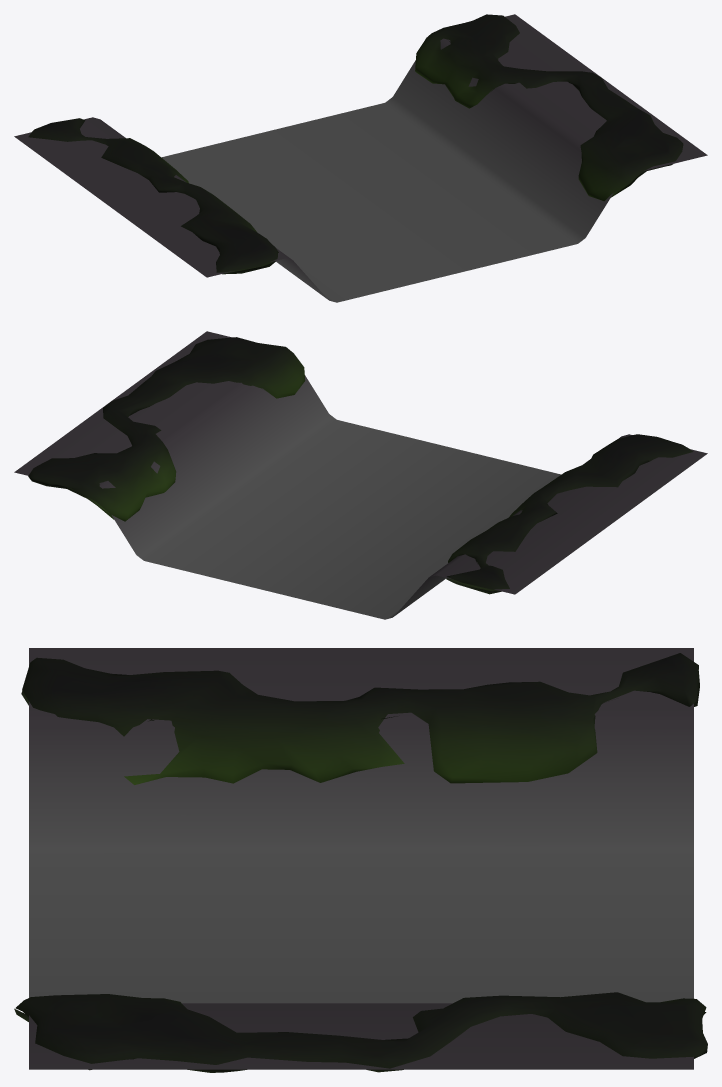
The model's file is SM_Sewer_Ground_07.fbx.
3 views of the same model, one above another, from view 1: azimuth 30°, elevation 25°; view 2: azimuth 150°, elevation 25°; view 3: azimuth 270°, elevation 25° (orthographic). The views are drawn at different scales.
Parts seen in each view (by area): view 1: transform10; view 2: transform10; view 3: transform10.
Boxes of the visible parts, x1,y1,x2,y2 form: transform10: (14, 14, 707, 302); transform10: (14, 331, 707, 619); transform10: (14, 648, 707, 1072).
Size of the model in its own units: 600 by 74.37 by 417.
